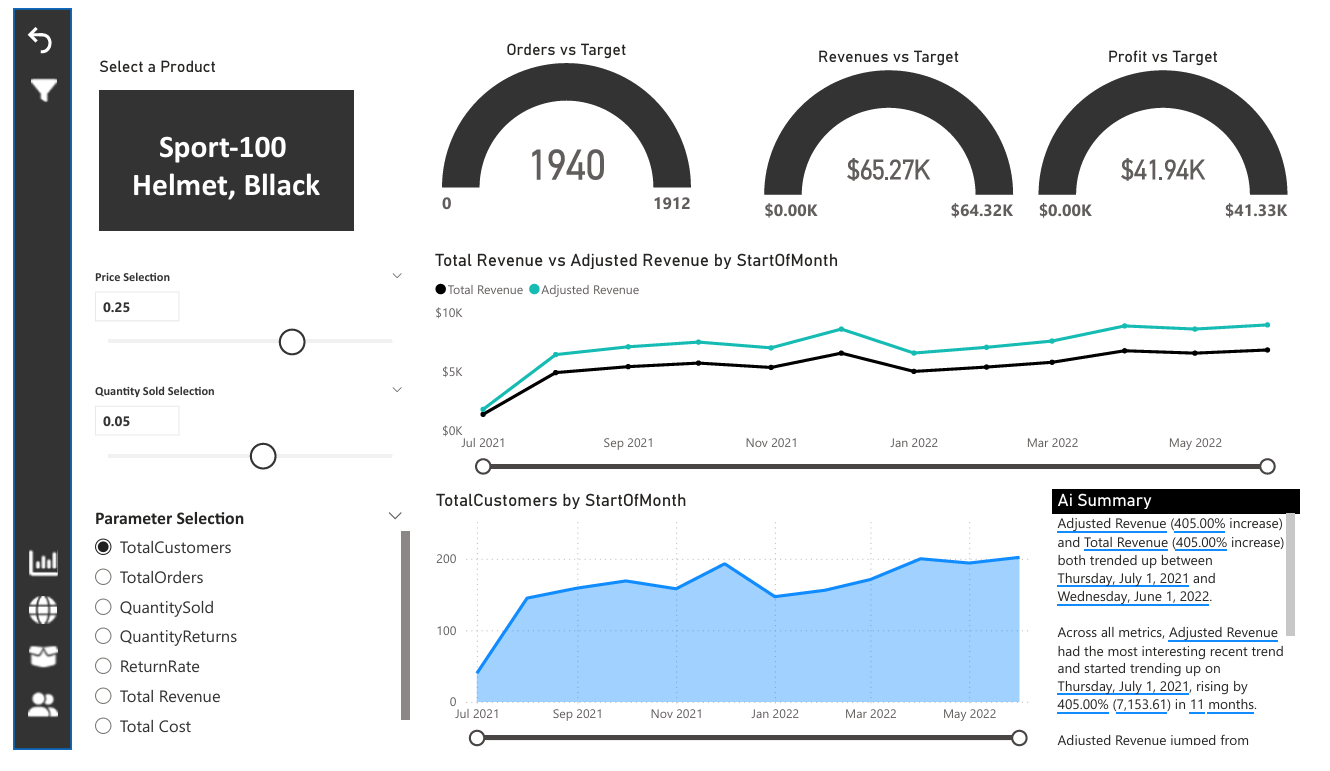

What the dashboard file says about the page in this screenshot:
{"tool":"powerbi","page":{"name":"Product Detail -Dashboard","canvas":[1280,720],"ordinal":2},"visuals":[{"type":"gauge","title":"Orders vs Target","fields":{"Y":["Table.TotalOrders"],"MaxValue":["Table.order Target"]},"box":[404.3,30,265.7,180],"z":0},{"type":"actionButton","title":"Dashboard Icon","box":[0,520.8,56.8,36.3],"z":0,"group":"g1"},{"type":"lineChart","title":"Total Revenue vs  Adjusted Revenue by StartOfMonth","fields":{"Y":["Table.Total Revenue","Table.Adjusted Revenue"],"Category":["Calendar Lookup.StartOfMonth"]},"box":[404.3,234.3,844.3,221.4],"z":1000},{"type":"actionButton","title":"Map Icon","box":[0,567.1,56.8,34.7],"z":1000,"group":"g1"},{"type":"gauge","title":"Revenues vs Target","fields":{"MaxValue":["Table.target revenue"],"Y":["Table.Total Revenue"]},"box":[717.1,37.1,265.7,180],"z":2000},{"type":"actionButton","title":"Costomer Icon","box":[1.6,658.1,52.1,36.3],"z":2000,"group":"g1"},{"type":"gauge","title":"Profit vs Target","fields":{"Y":["Table.Total Profit"],"MaxValue":["Table.target profit"]},"box":[984.3,37.1,264.3,180],"z":3000},{"type":"actionButton","title":"product icon","box":[0,611.8,56.8,36.3],"z":3000,"group":"g1"},{"type":"slicer","fields":{"Values":["Price Selection.Price Selection"]},"box":[65.9,248.8,324.1,95],"z":4000},{"type":"slicer","fields":{"Values":["Quantity Sold Selection.Quantity Sold Selection"]},"box":[65.9,360.4,324.1,95.5],"z":5000},{"type":"card","fields":{"Values":["Min(Product Lookup.ProductName)"]},"box":[82.9,80,247.1,137.1],"z":6000},{"type":"stackedAreaChart","fields":{"Y":["Table.TotalCustomers"],"Category":["Calendar Lookup.StartOfMonth"]},"box":[404.7,466.9,603.6,253.1],"z":7000},{"type":"slicer","fields":{"Values":["Parameter Selection.Parameter Selection"]},"box":[65.9,478.8,324.1,240.7],"z":8000},{"type":"actionButton","title":"Select a Product","box":[82.9,47.1,247.1,25.7],"z":9000},{"type":"shape","title":"Side Bar","box":[-0.4,0,56.3,720.4],"z":10000},{"type":"group","id":"g1","title":"Icons","box":[0,520.8,56.8,173.6],"z":11000},{"type":"actionButton","title":"Filter Icon","box":[6.3,63,45.8,33.3],"z":12000},{"type":"actionButton","box":[8.2,13.2,47.8,34.6],"z":13000},{"type":"textbox","title":"Ai Summary","box":[1008.6,467.1,240,252.9],"z":14000}]}

Visuals, with their boxes on the page's 1280x720 design canvas (x1, y1, x2, y2). These are canvas units, not pixel positions in the 1330x771 screenshot, which may show the page scaled, cropped or inside an application window:
"Orders vs Target" gauge: locate(404, 30, 670, 210)
"Dashboard Icon" actionButton: locate(0, 521, 57, 557)
"Total Revenue vs  Adjusted Revenue by StartOfMonth" lineChart: locate(404, 234, 1249, 456)
"Map Icon" actionButton: locate(0, 567, 57, 602)
"Revenues vs Target" gauge: locate(717, 37, 983, 217)
"Costomer Icon" actionButton: locate(2, 658, 54, 694)
"Profit vs Target" gauge: locate(984, 37, 1249, 217)
"product icon" actionButton: locate(0, 612, 57, 648)
slicer - Price Selection.Price Selection: locate(66, 249, 390, 344)
slicer - Quantity Sold Selection.Quantity Sold Selection: locate(66, 360, 390, 456)
card - Min(Product Lookup.ProductName): locate(83, 80, 330, 217)
stackedAreaChart - Table.TotalCustomers x Calendar Lookup.StartOfMonth: locate(405, 467, 1008, 720)
slicer - Parameter Selection.Parameter Selection: locate(66, 479, 390, 720)
"Select a Product" actionButton: locate(83, 47, 330, 73)
"Side Bar" shape: locate(0, 0, 56, 720)
"Icons" group: locate(0, 521, 57, 694)
"Filter Icon" actionButton: locate(6, 63, 52, 96)
actionButton: locate(8, 13, 56, 48)
"Ai Summary" textbox: locate(1009, 467, 1249, 720)
